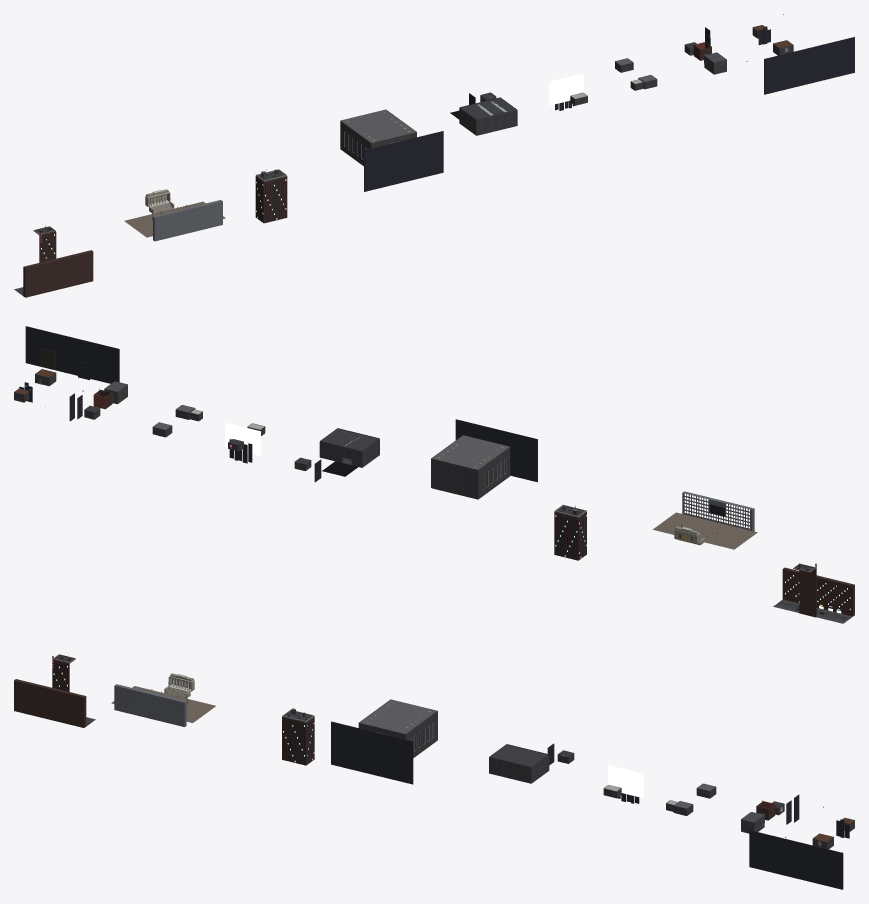
Rendered from DeathsGambitMaps_Sets.fbx.
3 views of the same model, one above another, from view 1: azimuth 30°, elevation 25°; view 2: azimuth 150°, elevation 25°; view 3: azimuth 330°, elevation 25° (orthographic). The views are drawn at different scales.
Visible parts, largest first — view 1: Map_Sets_CityFacade_1, Map_Sets_BrickDark_1, Map_Sets_ConcreteDark_1, Map_Sets_FacadeTileGrey_1, Map_Sets_CeilingDark_1, Map_Sets_WindowCool_1, Map_Sets_DarkMetal_1, Map_Sets_PaversWarm_1; view 2: Map_Sets_CityFacade_1, Map_Sets_ConcreteDark_1, Map_Sets_BrickDark_1, Map_Sets_PaversWarm_1, Map_Sets_CeilingDark_1, Map_Sets_WindowCool_1, Map_Sets_FacadeTileGrey_1, Map_Sets_DarkMetal_1; view 3: Map_Sets_CityFacade_1, Map_Sets_BrickDark_1, Map_Sets_ConcreteDark_1, Map_Sets_FacadeTileGrey_1, Map_Sets_CeilingDark_1, Map_Sets_WindowCool_1, Map_Sets_DarkMetal_1, Map_Sets_PaversWarm_1.
Boxes of the visible parts, bbox=[...] form: Map_Sets_CityFacade_1: bbox=[364, 26, 854, 191]; Map_Sets_BrickDark_1: bbox=[23, 42, 711, 297]; Map_Sets_ConcreteDark_1: bbox=[340, 25, 793, 166]; Map_Sets_FacadeTileGrey_1: bbox=[153, 200, 222, 241]; Map_Sets_CeilingDark_1: bbox=[341, 58, 656, 142]; Map_Sets_WindowCool_1: bbox=[549, 73, 583, 105]; Map_Sets_DarkMetal_1: bbox=[45, 97, 516, 229]; Map_Sets_PaversWarm_1: bbox=[124, 201, 225, 237]; Map_Sets_CityFacade_1: bbox=[19, 326, 537, 482]; Map_Sets_ConcreteDark_1: bbox=[14, 369, 510, 499]; Map_Sets_BrickDark_1: bbox=[94, 390, 854, 617]; Map_Sets_PaversWarm_1: bbox=[652, 512, 757, 549]; Map_Sets_CeilingDark_1: bbox=[153, 405, 509, 469]; Map_Sets_WindowCool_1: bbox=[225, 423, 749, 528]; Map_Sets_FacadeTileGrey_1: bbox=[682, 491, 754, 531]; Map_Sets_DarkMetal_1: bbox=[158, 428, 811, 566]; Map_Sets_CityFacade_1: bbox=[331, 721, 849, 889]; Map_Sets_BrickDark_1: bbox=[14, 654, 775, 819]; Map_Sets_ConcreteDark_1: bbox=[358, 699, 854, 849]; Map_Sets_FacadeTileGrey_1: bbox=[114, 684, 186, 726]; Map_Sets_CeilingDark_1: bbox=[359, 699, 715, 808]; Map_Sets_WindowCool_1: bbox=[608, 765, 643, 797]; Map_Sets_DarkMetal_1: bbox=[489, 744, 548, 767]; Map_Sets_PaversWarm_1: bbox=[111, 686, 215, 722].
Bounding box in the file's own units: 1440 × 144 × 172.
81 materials, 55 textured.
